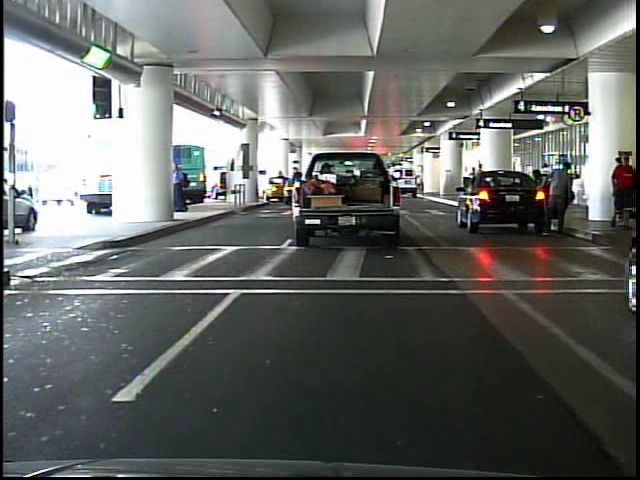person: (536, 148, 577, 240), (607, 150, 634, 208)
